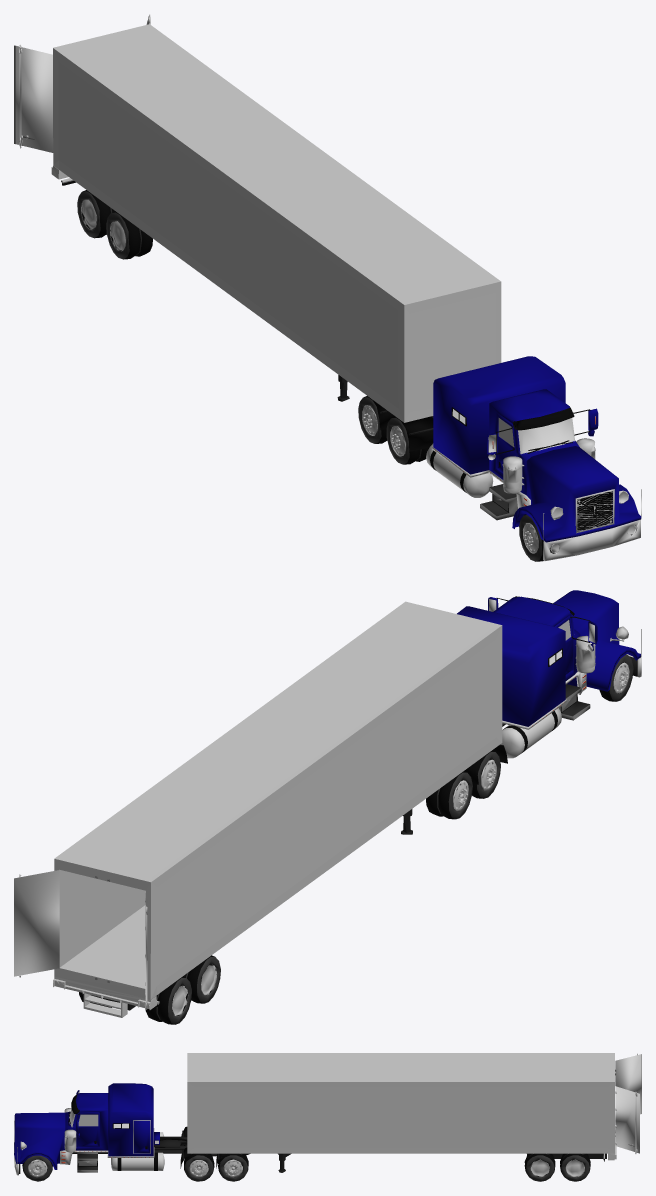
Rendered from oppen door truck.obj.
The picture shows the model from 3 angles, top to bottom: view 1: azimuth 30°, elevation 25°; view 2: azimuth 150°, elevation 25°; view 3: azimuth 270°, elevation 25°; orthographic projection. The views are drawn at different scales.
Visible parts, largest first — view 1: Tractor_Door.R; view 2: Tractor_Door.R; view 3: Tractor_Door.R.
Part boxes in pixels (bbox=[...]): Tractor_Door.R: bbox=[14, 14, 641, 561]; Tractor_Door.R: bbox=[14, 590, 641, 1024]; Tractor_Door.R: bbox=[14, 1053, 641, 1181].
Bounding box in the file's own units: 2.76 × 3.3 × 18.45.
